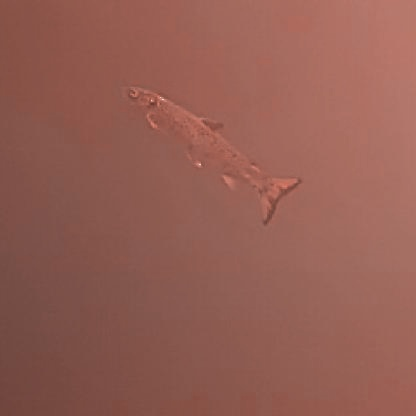salmon: (112, 78, 302, 225)
